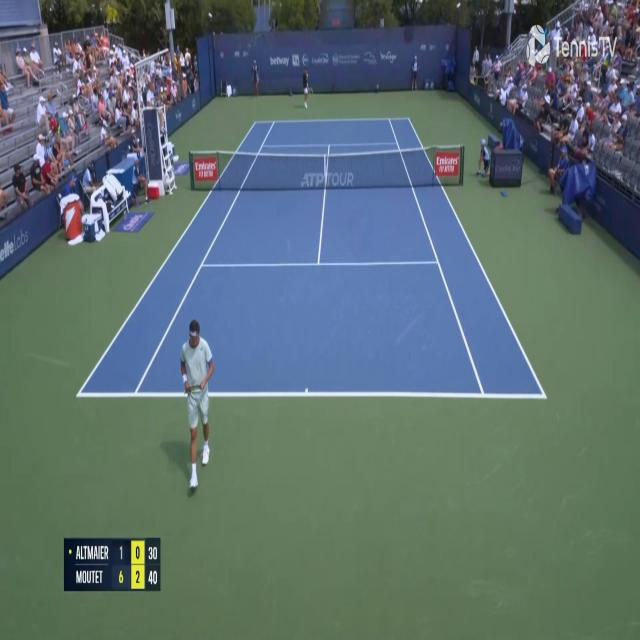tennis-player: (178, 315, 216, 495), (300, 67, 312, 110)
